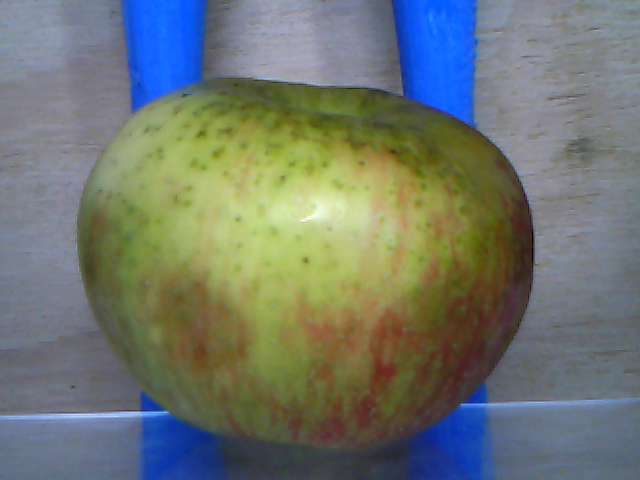bruise: (157, 271, 255, 381)
